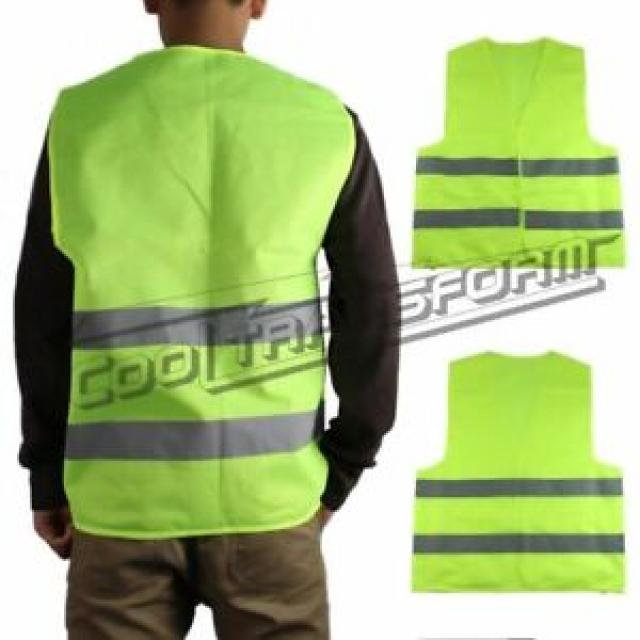Reflective-Jacket: (32, 38, 367, 557), (395, 345, 638, 606), (397, 30, 636, 288)
